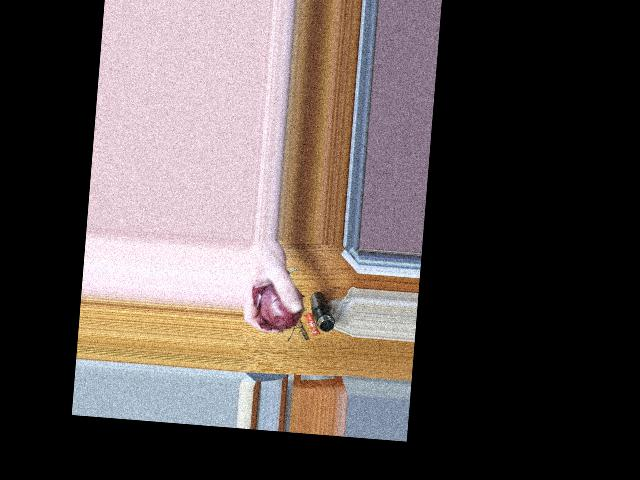onion: (254, 279, 298, 328)
